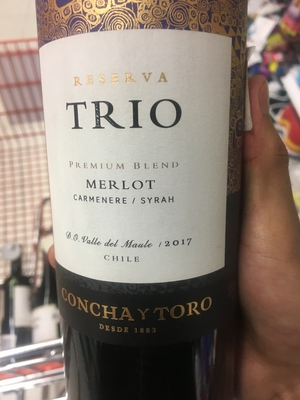trio merlot: (36, 2, 245, 400)
